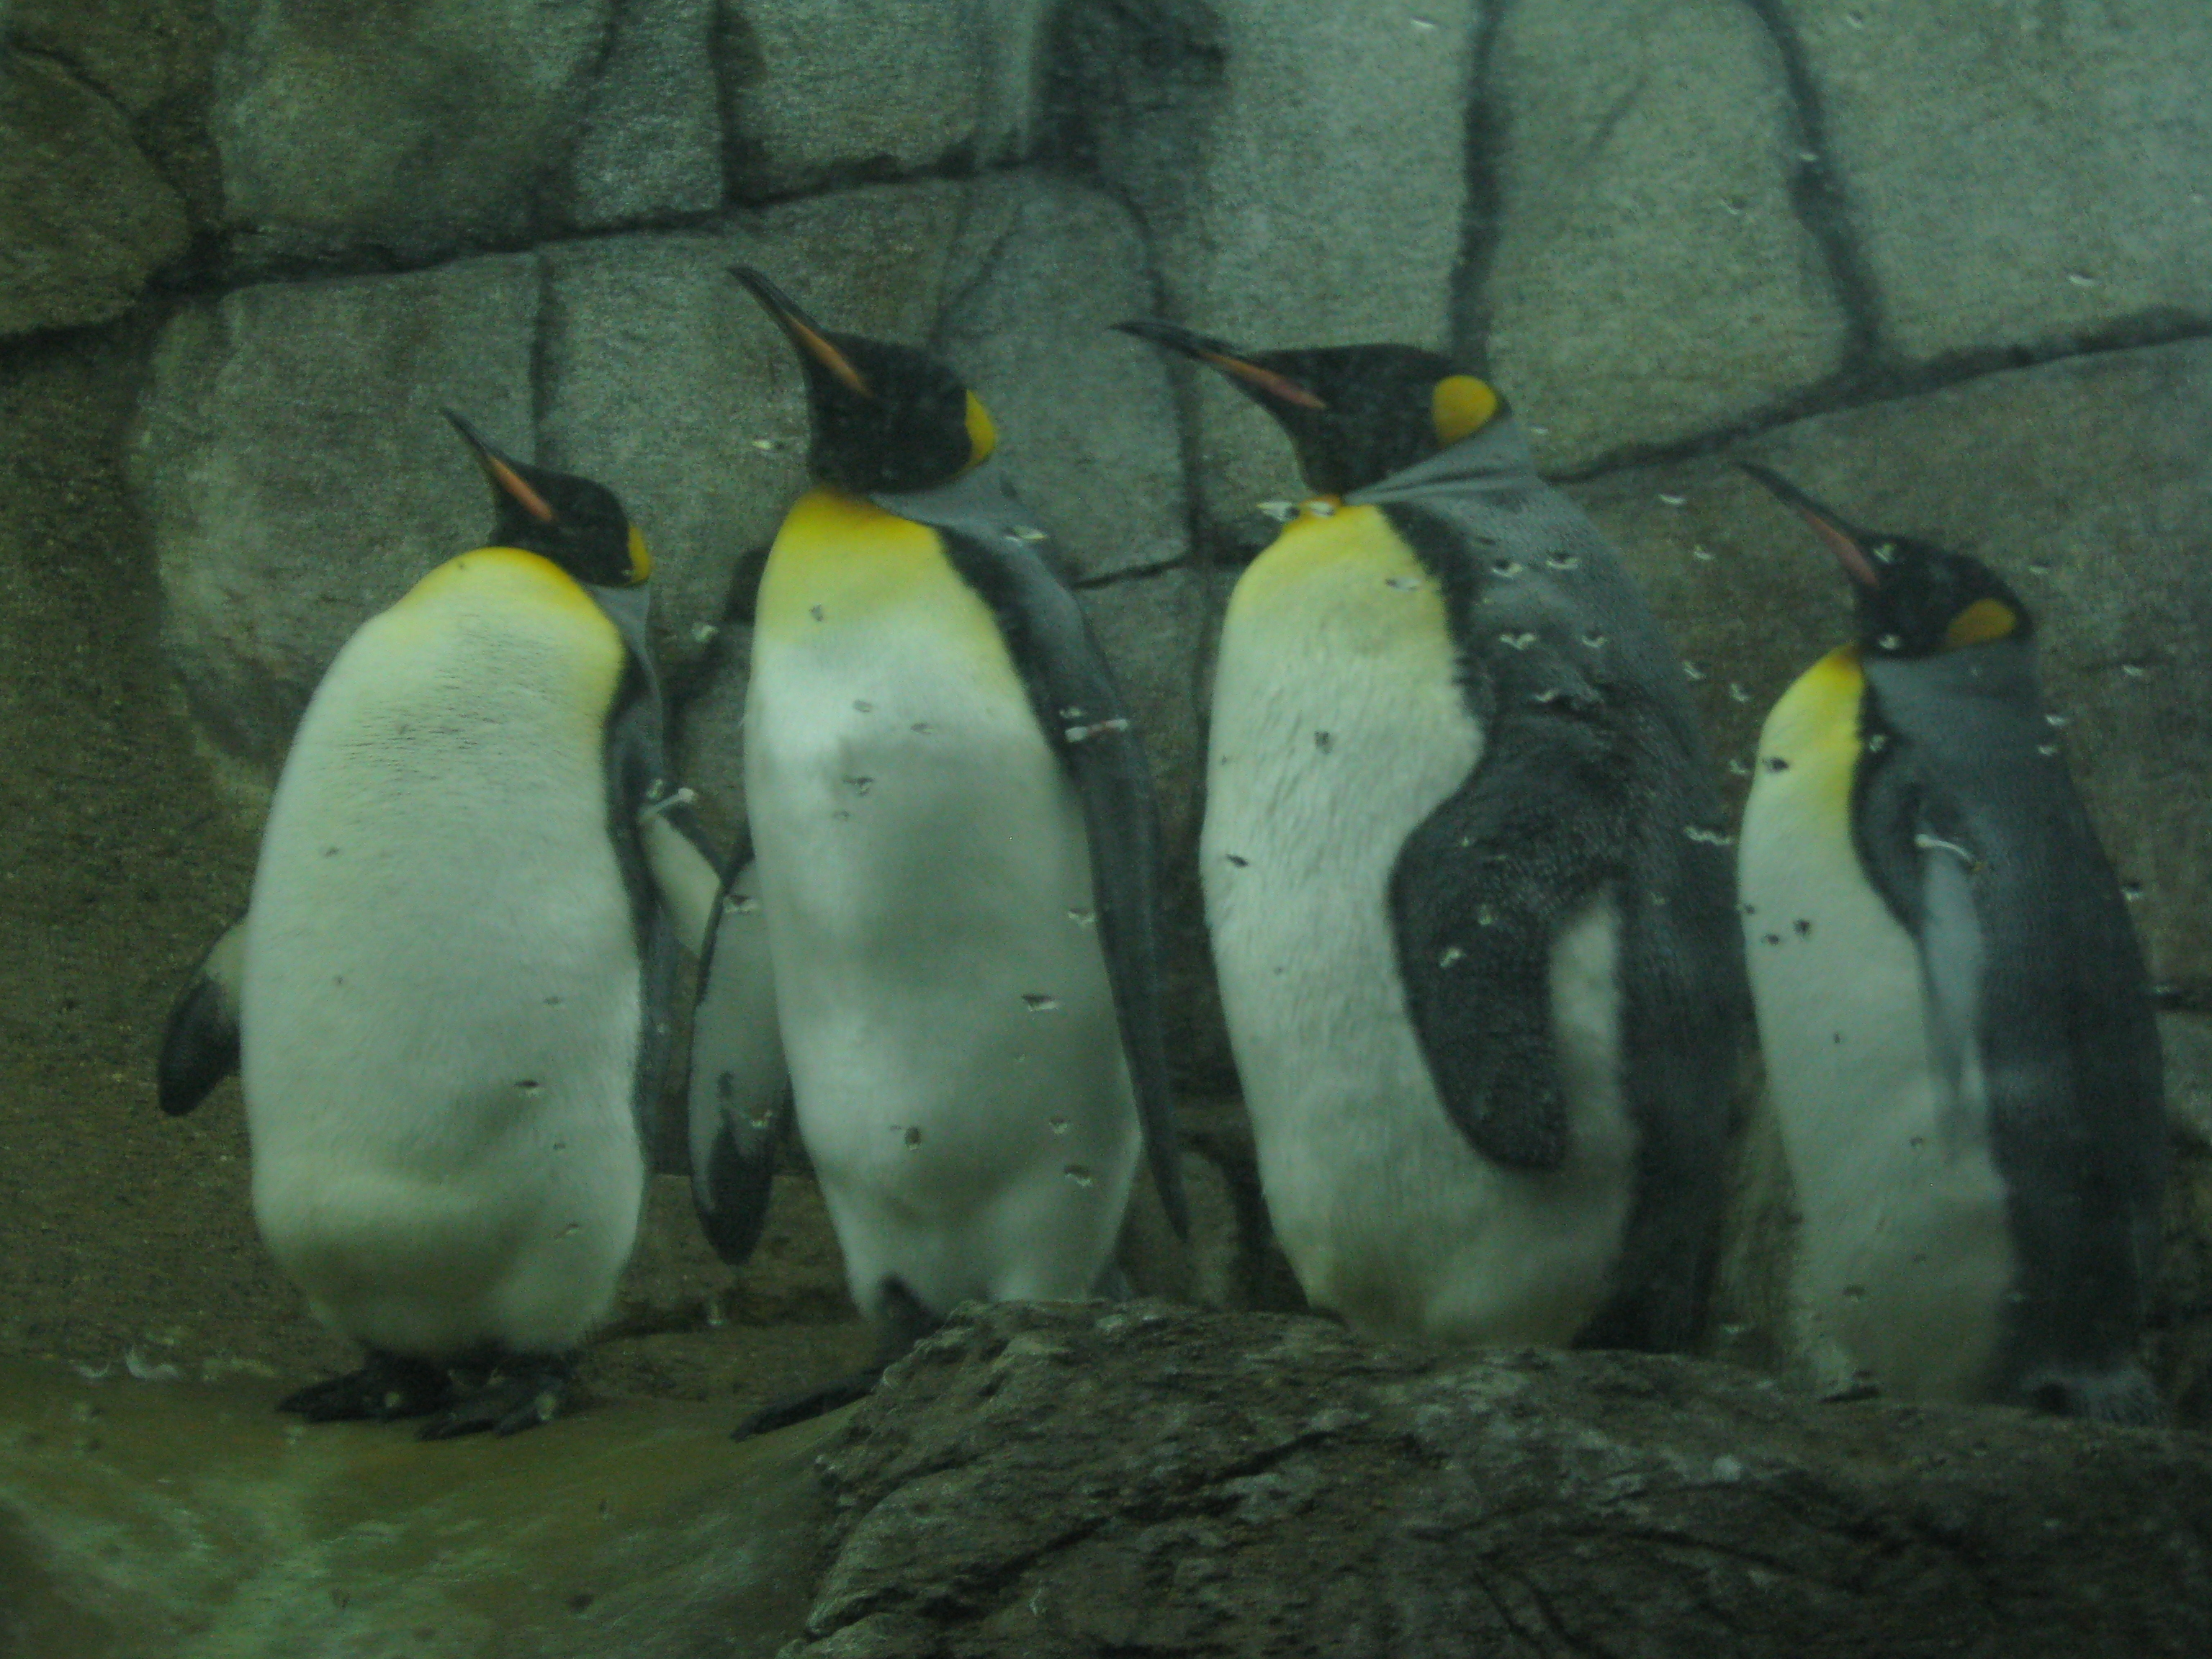penguin: (1109, 310, 1771, 1405), (179, 411, 780, 1446), (716, 263, 1198, 1371), (1730, 469, 2212, 1398)
